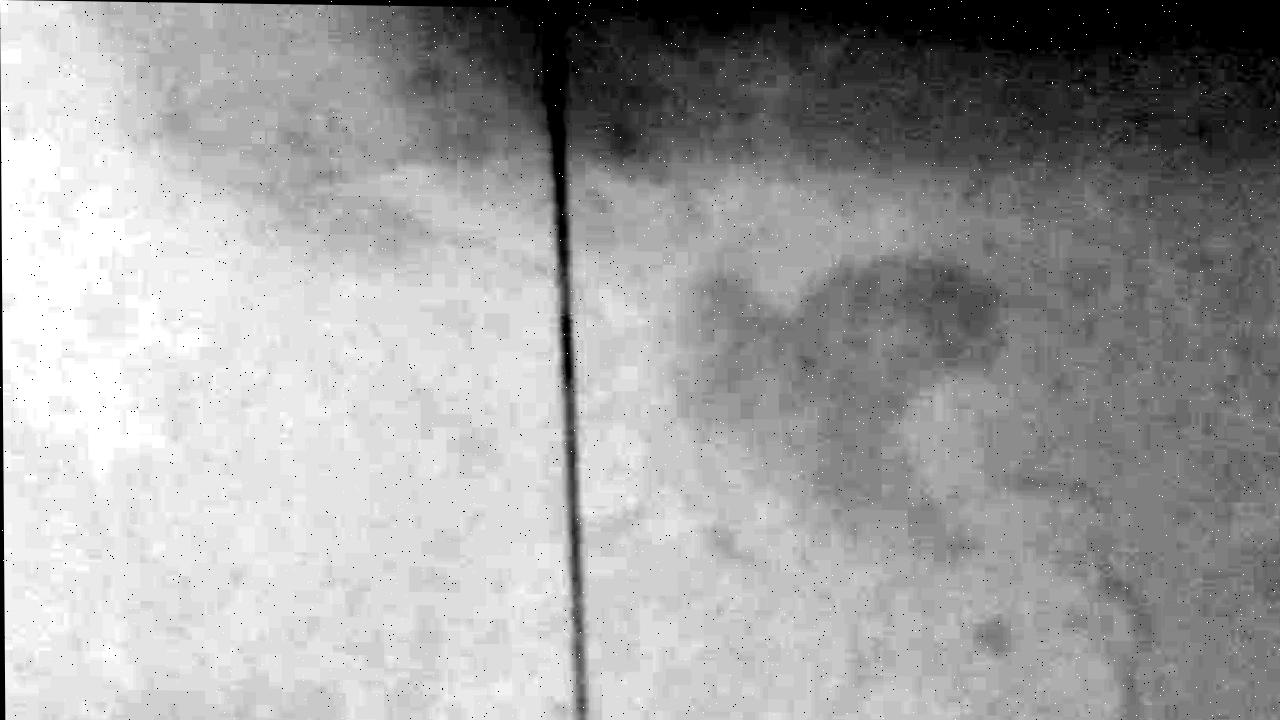drinks Stains: (682, 228, 990, 573)
